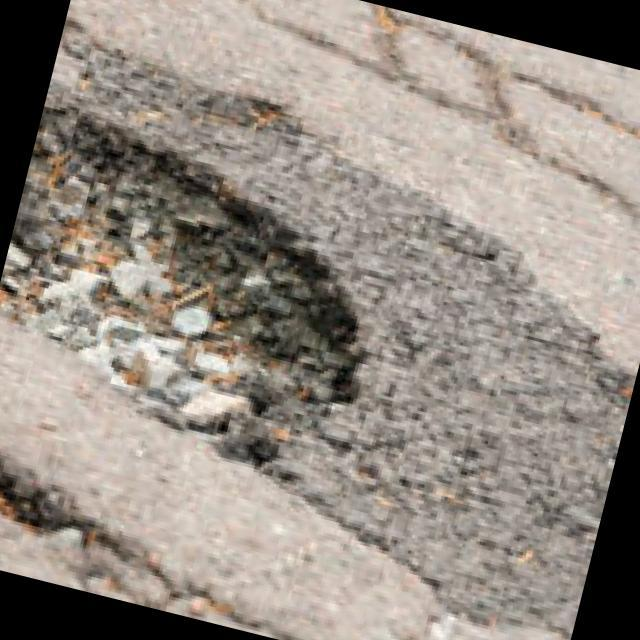Pothole: (0, 88, 468, 558), (0, 428, 168, 592)
